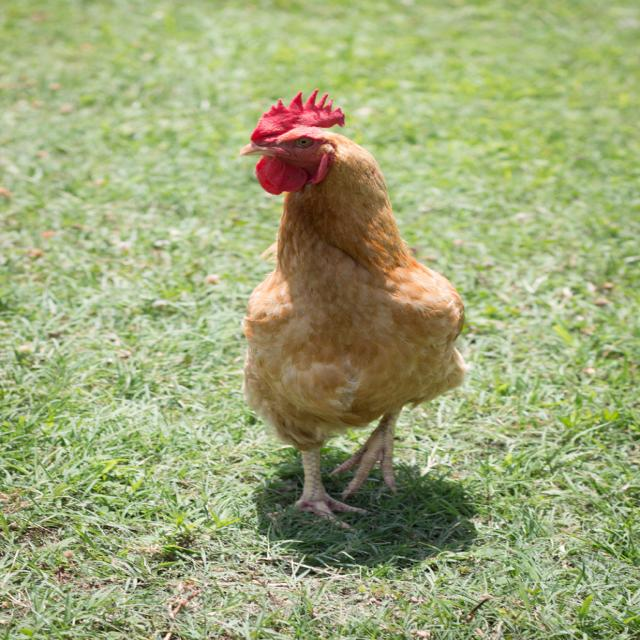Chicken: (239, 89, 466, 531)
